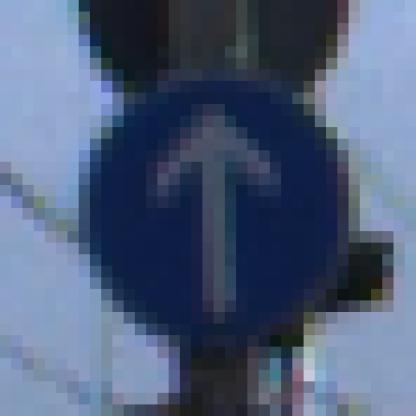AheadOnly: (68, 59, 361, 359)
